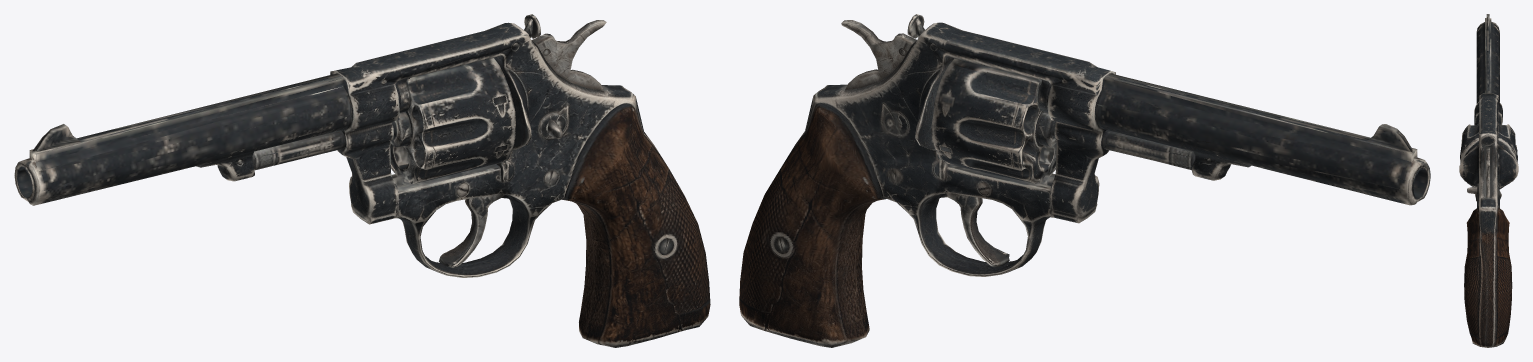
File: Meshy_AI_model.fbx
3 views of the same model, side by side, from view 1: azimuth 30°, elevation 25°; view 2: azimuth 150°, elevation 25°; view 3: azimuth 270°, elevation 25° (orthographic). The views are drawn at different scales.
Visible parts, largest first — view 1: Mesh_0; view 2: Mesh_0; view 3: Mesh_0.
Boxes of the visible parts, x1,y1,x2,y2 form: Mesh_0: [14, 14, 710, 347]; Mesh_0: [739, 14, 1430, 347]; Mesh_0: [1459, 14, 1518, 347].
Bounding box in the file's own units: 95.75 × 47.07 × 14.31.
Materials: 1 (1 with a texture image).
